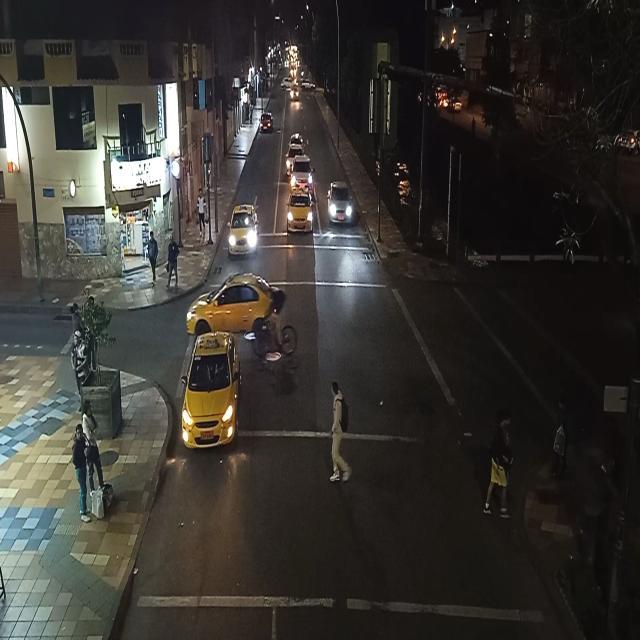CMT: (292, 156, 314, 192)
SED: (180, 334, 239, 446), (231, 208, 258, 256)
